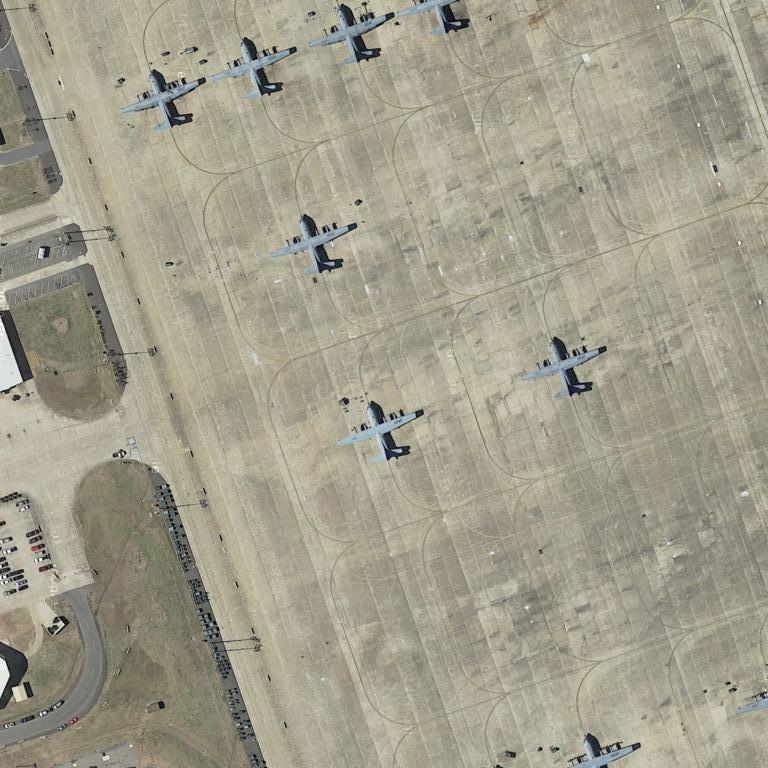C-130: (269, 210, 357, 280), (338, 400, 426, 469), (122, 67, 204, 139), (211, 38, 296, 105), (524, 335, 608, 402), (314, 3, 392, 70)
